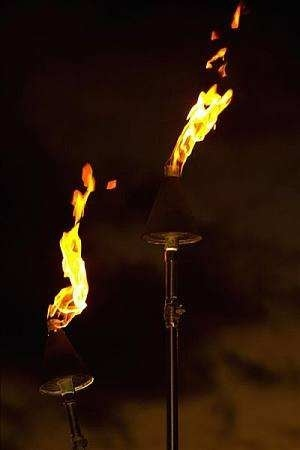fire: (52, 160, 96, 327), (167, 80, 233, 172), (205, 3, 244, 75)
